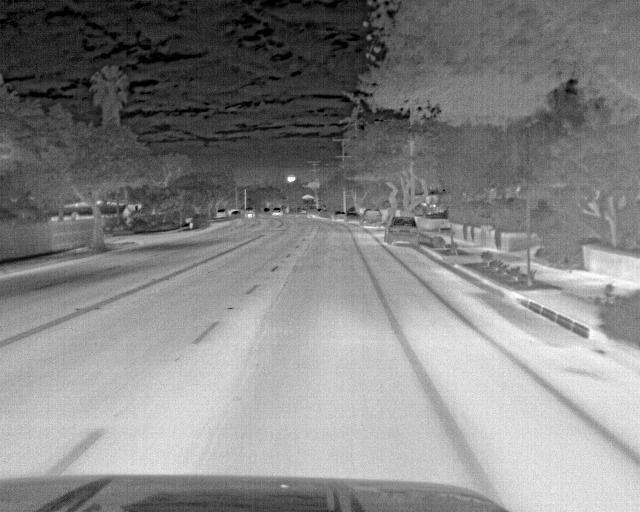car: (381, 212, 421, 247), (358, 205, 384, 228), (330, 207, 349, 222), (214, 205, 231, 220), (345, 210, 359, 225), (241, 206, 257, 219), (271, 205, 285, 218)
